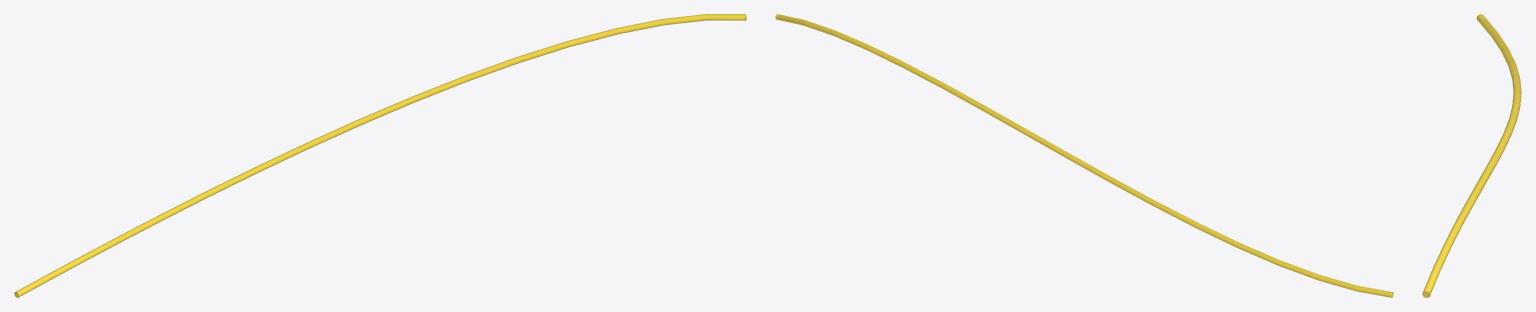
The model's file is Event_27938768_track_62.fbx.
The picture shows the model from 3 angles, left to right: view 1: azimuth 30°, elevation 25°; view 2: azimuth 150°, elevation 25°; view 3: azimuth 270°, elevation 25°; orthographic projection. The views are drawn at different scales.
Visible parts, largest first — view 1: Model; view 2: Model; view 3: Model.
Part boxes in pixels (x1,y1,x2,y2): Model: (14,14,746,297); Model: (775,14,1393,297); Model: (1422,14,1521,297).
Size of the model in its own units: 4.97 by 0.8934 by 0.4877.
